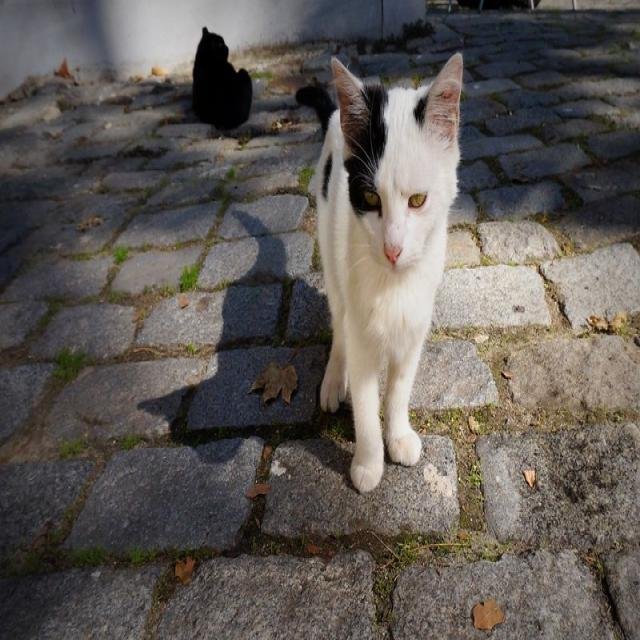cat: (298, 54, 462, 492), (192, 28, 252, 129)
